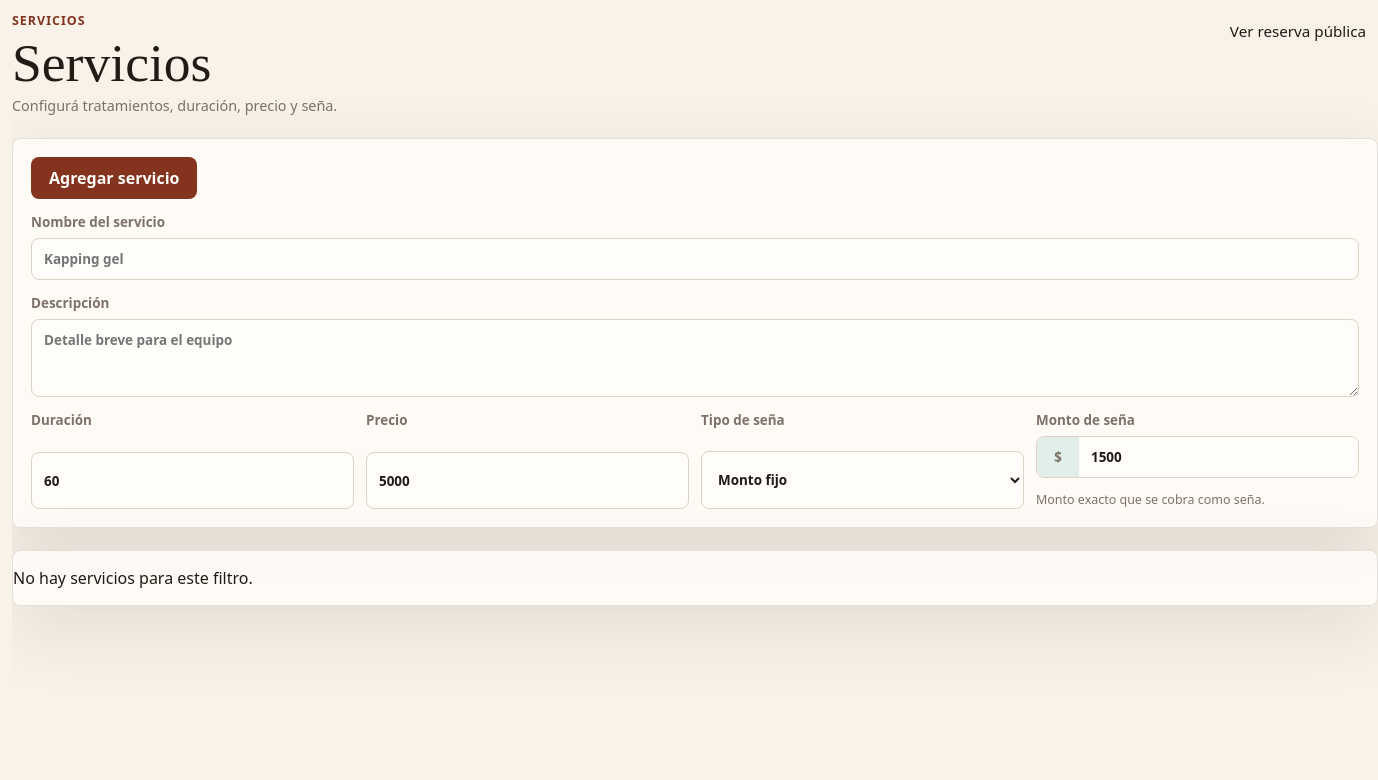
Test case: AdminServicesPanel › shows percentage guidance when deposit type is percentage
The image size is (1378, 780).
Select "Porcentaje" in the dropdown labelled "Tipo de seña": point(862, 480) [701,451,1024,509]
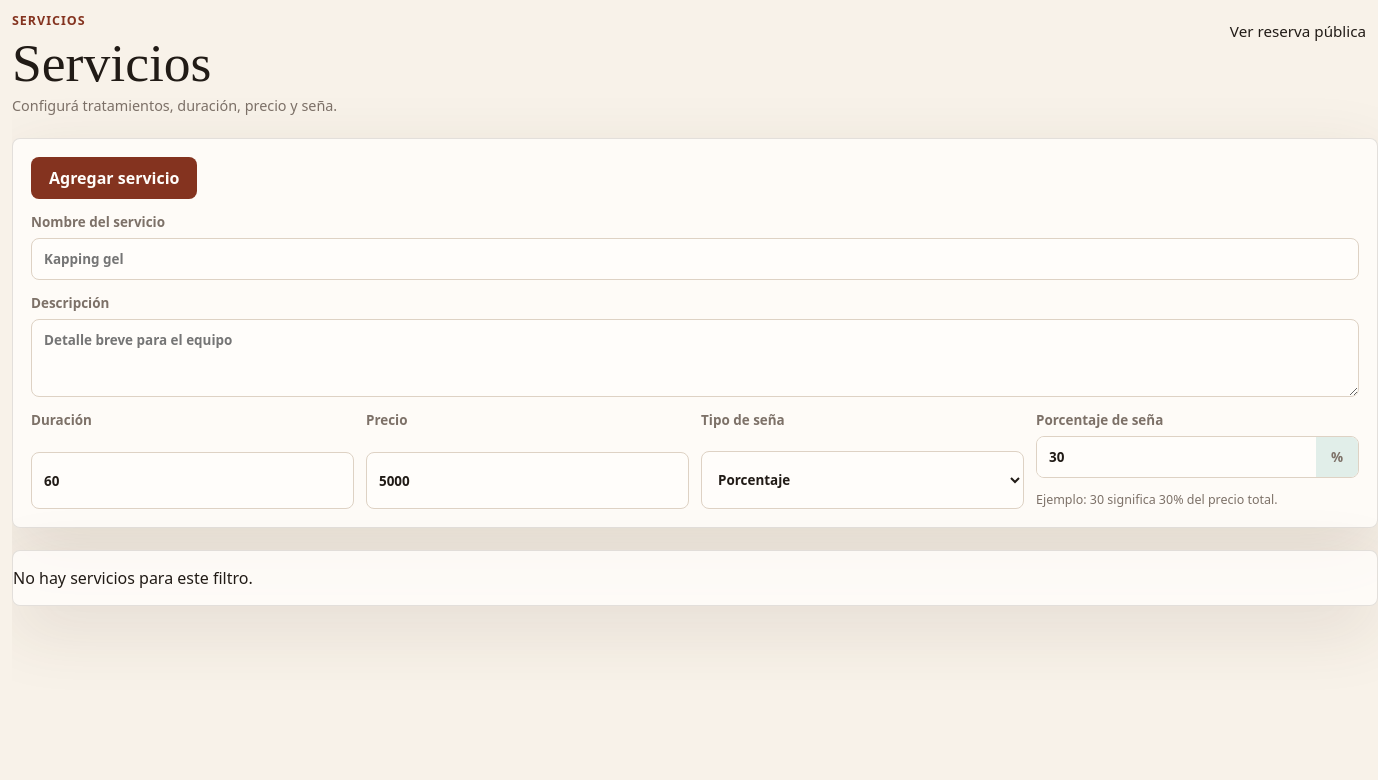
Check: the text "Ejemplo: 30 significa 30% del precio total." is shown, box [1036,491,1278,508]
